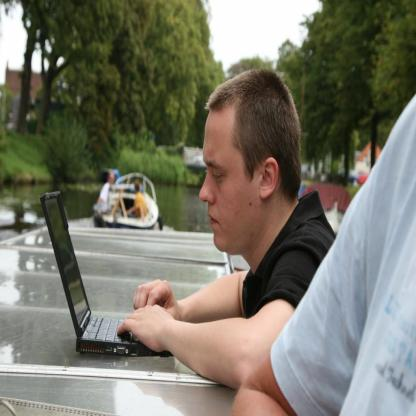board: (49, 180, 149, 368)
